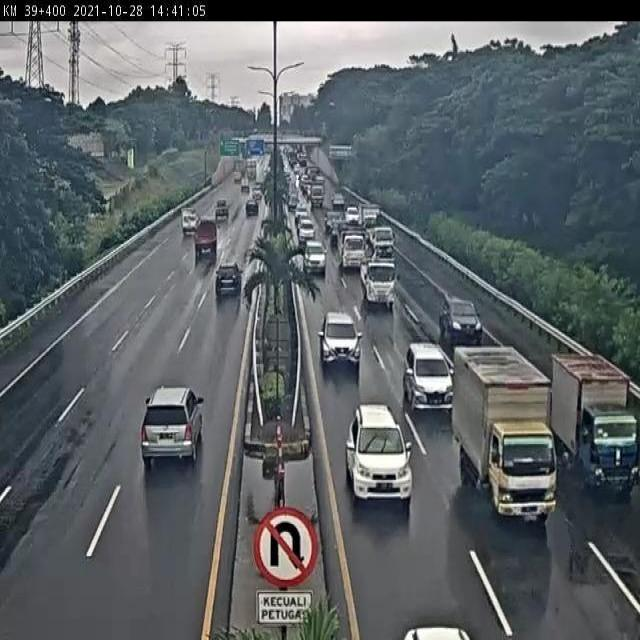car: (346, 406, 415, 502), (405, 340, 454, 411), (320, 308, 361, 367), (440, 296, 483, 343), (214, 260, 244, 297)
mid truck: (140, 386, 206, 466)
truck-m-: (452, 345, 556, 520), (360, 256, 397, 309)
truck-s-: (552, 351, 638, 488)
